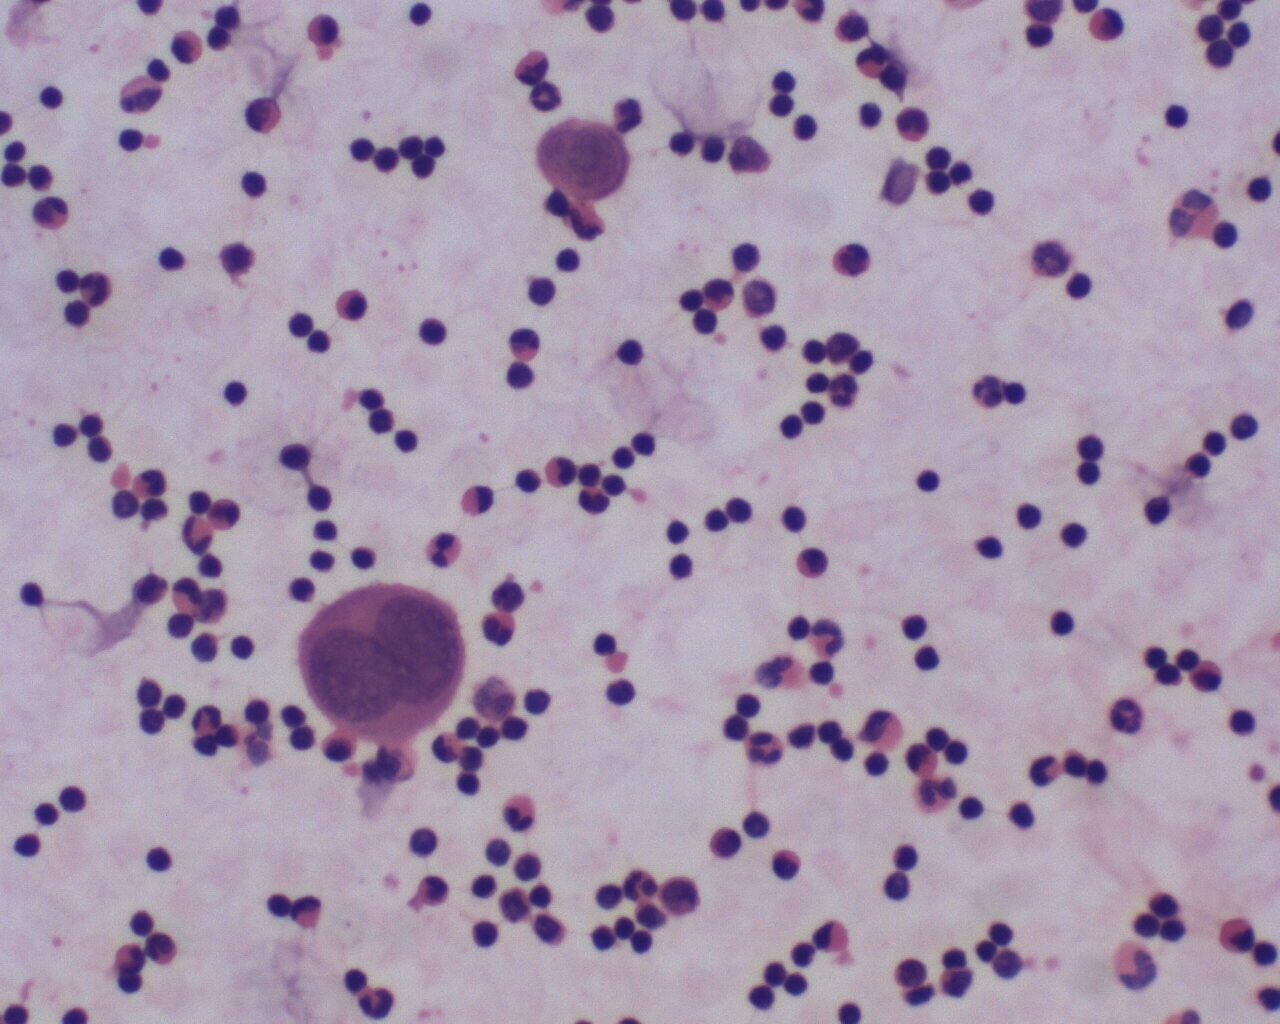ab: (290, 582, 472, 743), (530, 116, 634, 200)
lymph: (408, 822, 447, 862), (236, 165, 273, 207), (1043, 605, 1084, 642), (1243, 168, 1280, 209), (739, 802, 775, 843), (142, 839, 180, 878), (523, 270, 560, 309), (54, 779, 90, 820), (613, 329, 646, 373), (1009, 498, 1048, 535), (777, 499, 815, 536), (1062, 269, 1097, 307), (888, 839, 927, 875), (418, 312, 452, 352), (962, 185, 999, 218), (388, 422, 421, 459), (665, 549, 698, 584), (897, 609, 933, 642), (956, 794, 993, 827), (217, 376, 251, 411), (793, 108, 823, 145), (1072, 430, 1106, 462), (1163, 100, 1195, 132), (589, 629, 622, 660), (34, 82, 68, 112), (915, 462, 944, 496)
neutro: (495, 792, 541, 835), (422, 530, 465, 575), (618, 863, 661, 906), (354, 986, 403, 1024), (893, 103, 934, 148), (968, 366, 1007, 412), (742, 731, 787, 771), (73, 269, 114, 307), (824, 370, 863, 410), (1110, 694, 1145, 736)
